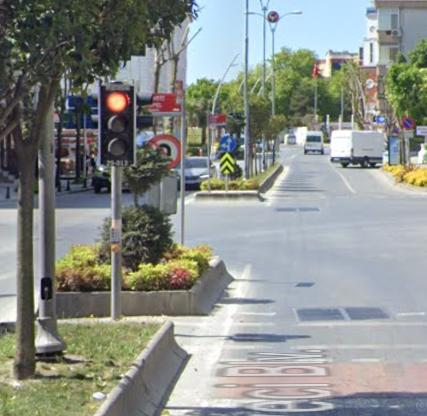nopark: (402, 118, 414, 130)
redlight: (100, 85, 134, 168)
